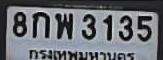1: (102, 14, 111, 40)
3: (81, 13, 95, 39), (118, 14, 132, 40)
5: (136, 15, 151, 41)
8: (12, 11, 26, 36)
A01: (31, 11, 49, 37)
A30: (54, 12, 72, 38)
BKK: (27, 48, 138, 60)
